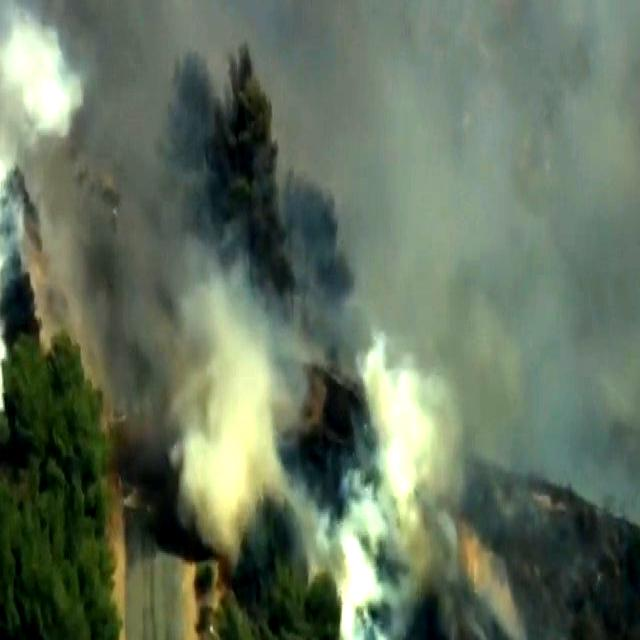smoke: (169, 338, 270, 506), (0, 5, 88, 144), (324, 528, 404, 631)
